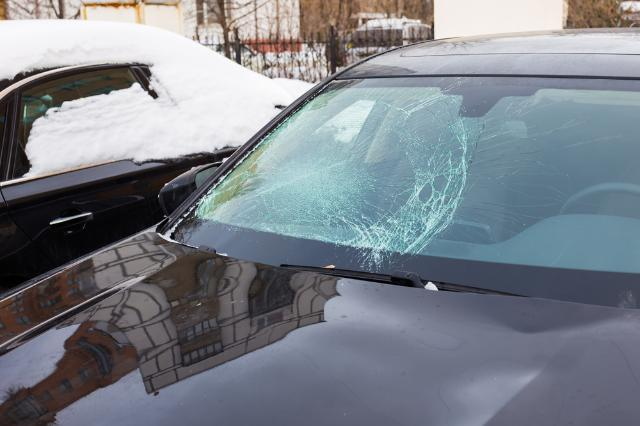dent: (315, 300, 613, 426)
glass shatter: (167, 75, 640, 310)
